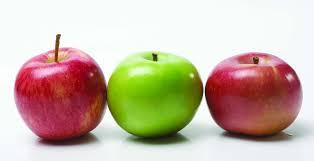apple: (16, 43, 107, 147), (109, 49, 202, 138), (208, 55, 303, 135)
